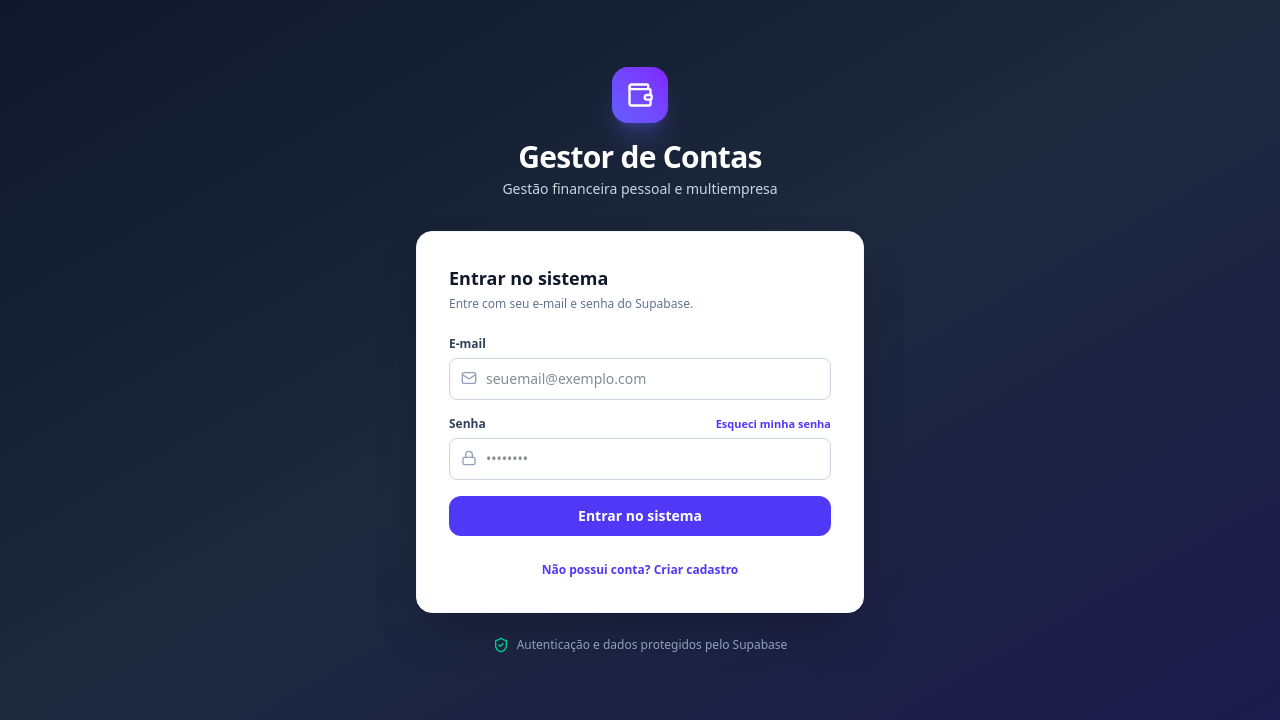
Test case: keeps the login form mounted during a request and displays invalid credentials
This screenshot has width=1280, height=720.
Expected: the button "Entrar no sistema" is shown, [449,496,831,536]
Type "test@example.com" into the field with placeholder "seuemail@exemplo.com". click: {"x": 640, "y": 379}
box: [449,358,831,400]
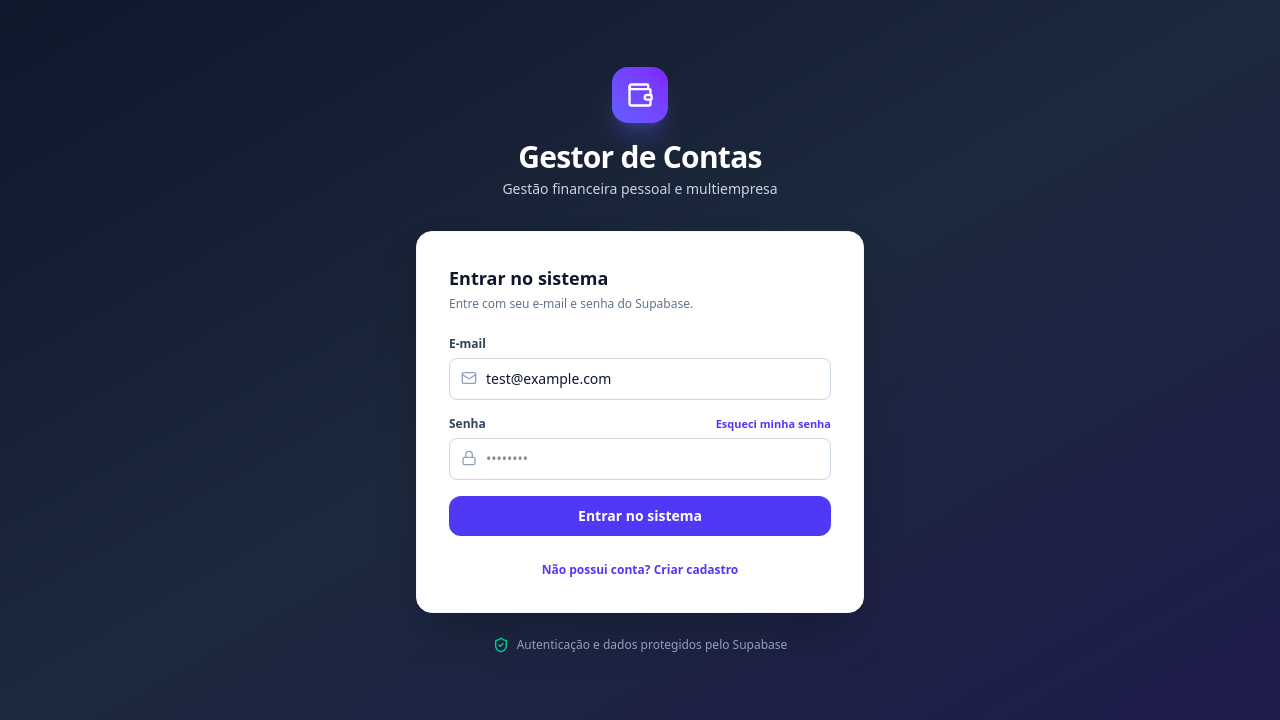
Type "invalid-password" into the password field with placeholder "••••••••". click: {"x": 640, "y": 459}
box: [449,438,831,480]
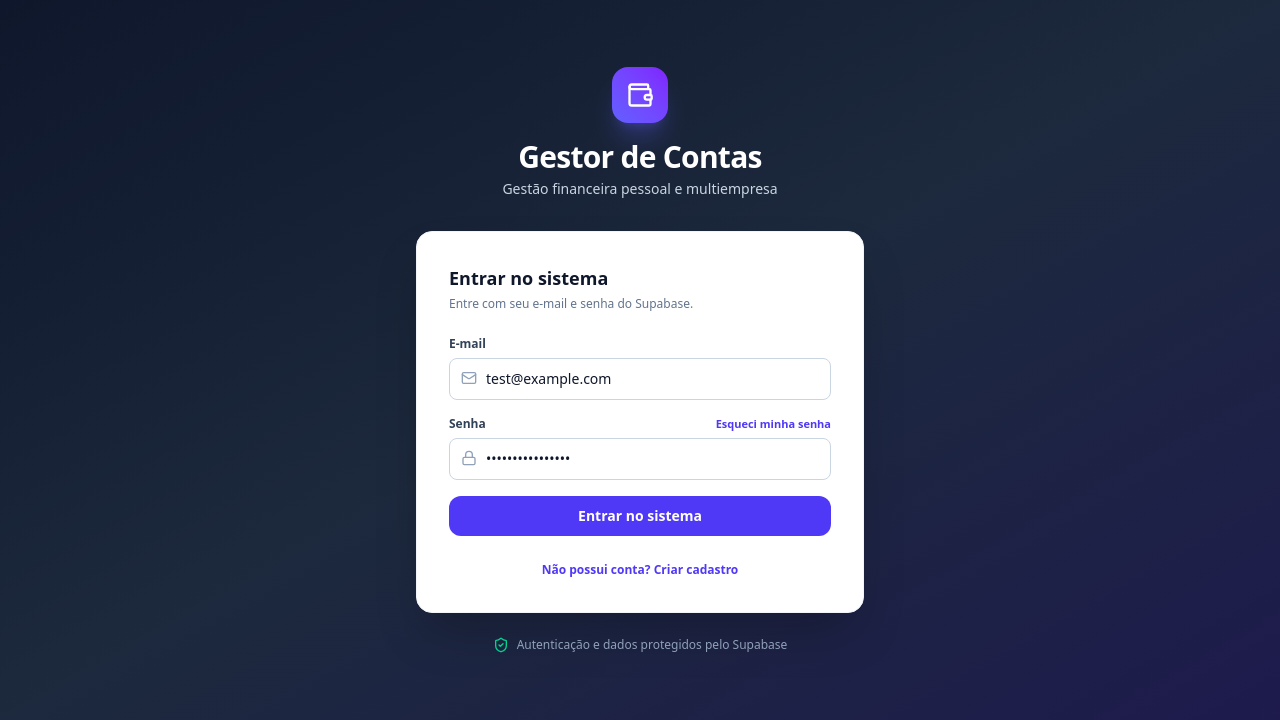
Click the button "Entrar no sistema". click: {"x": 640, "y": 516}
box: [449,496,831,536]
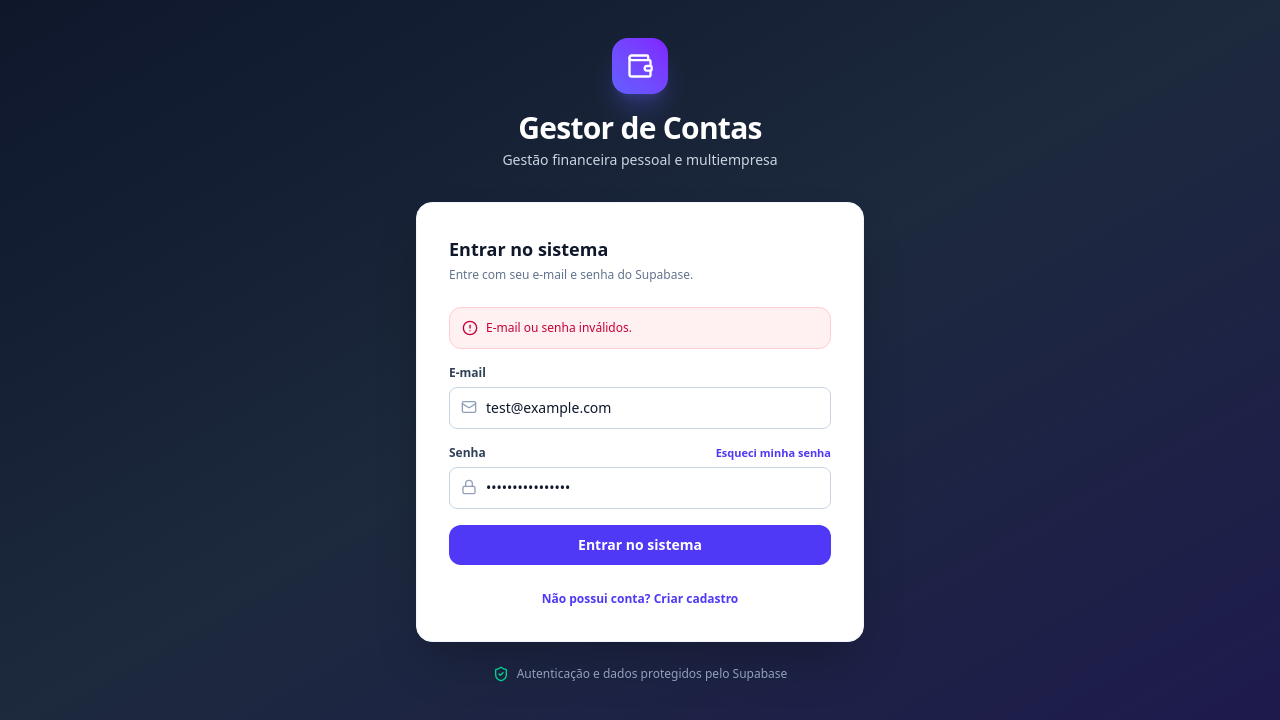
Now the text "E-mail ou senha inválidos." is shown, box [486,320,632,336]
